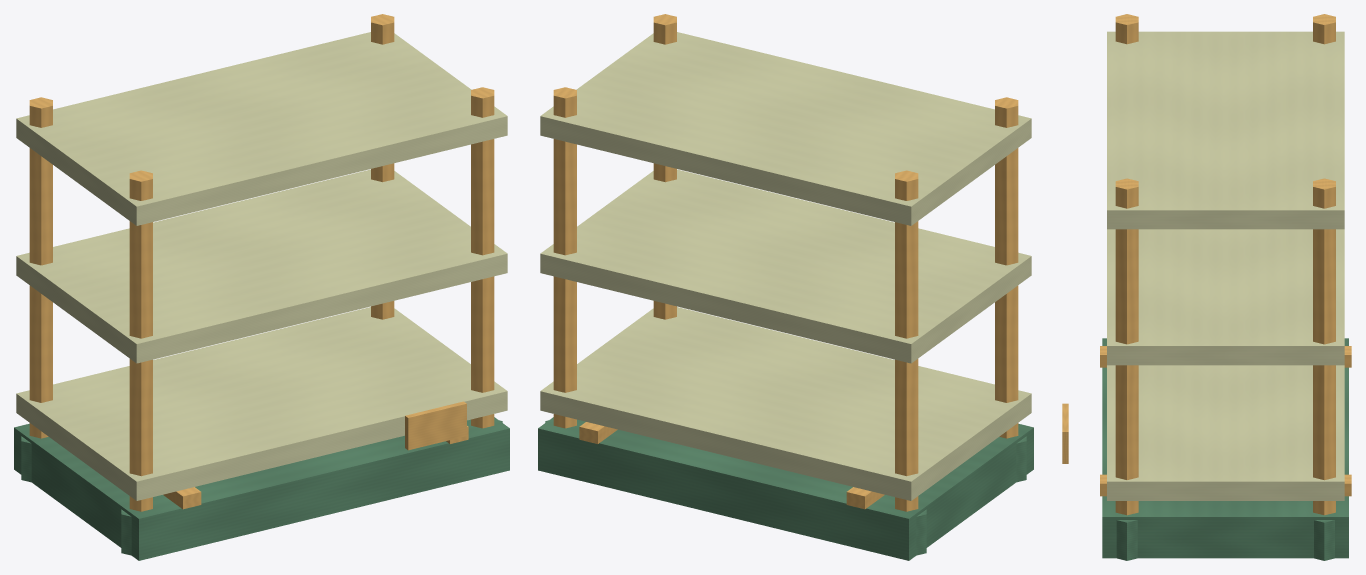
The model's file is atlas100-s001-a06.lod1.glb.
3 renders of one model, left to right at view 1: azimuth 30°, elevation 25°; view 2: azimuth 150°, elevation 25°; view 3: azimuth 270°, elevation 25°, orthographic.
Parts seen in each view (by area): view 1: atlas100-s001-a06:part-013, atlas100-s001-a06:part-012, atlas100-s001-a06:part-011, atlas100-s001-a06:part-000, atlas100-s001-a06:part-005, atlas100-s001-a06:part-009, atlas100-s001-a06:part-003, atlas100-s001-a06:part-014, atlas100-s001-a06:part-007; view 2: atlas100-s001-a06:part-013, atlas100-s001-a06:part-012, atlas100-s001-a06:part-011, atlas100-s001-a06:part-000, atlas100-s001-a06:part-003, atlas100-s001-a06:part-007, atlas100-s001-a06:part-005, atlas100-s001-a06:part-009; view 3: atlas100-s001-a06:part-013, atlas100-s001-a06:part-012, atlas100-s001-a06:part-011, atlas100-s001-a06:part-000, atlas100-s001-a06:part-009, atlas100-s001-a06:part-007, atlas100-s001-a06:part-010, atlas100-s001-a06:part-008, atlas100-s001-a06:part-005, atlas100-s001-a06:part-003, atlas100-s001-a06:part-014.
Part boxes in pixels (x1,y1,x2,y2): atlas100-s001-a06:part-013: (16,32,507,225); atlas100-s001-a06:part-012: (16,169,507,363); atlas100-s001-a06:part-011: (16,307,507,500); atlas100-s001-a06:part-000: (14,417,509,560); atlas100-s001-a06:part-005: (129,170,152,511); atlas100-s001-a06:part-009: (471,87,494,428); atlas100-s001-a06:part-003: (29,97,52,438); atlas100-s001-a06:part-014: (405,401,466,450); atlas100-s001-a06:part-007: (371,14,394,319); atlas100-s001-a06:part-013: (540,32,1031,225); atlas100-s001-a06:part-012: (540,169,1031,363); atlas100-s001-a06:part-011: (540,307,1031,500); atlas100-s001-a06:part-000: (538,417,1033,560); atlas100-s001-a06:part-003: (895,170,918,511); atlas100-s001-a06:part-007: (553,87,576,428); atlas100-s001-a06:part-005: (995,97,1018,438); atlas100-s001-a06:part-009: (653,14,676,319); atlas100-s001-a06:part-013: (1107,31,1344,229); atlas100-s001-a06:part-012: (1107,229,1344,365); atlas100-s001-a06:part-011: (1107,365,1344,500); atlas100-s001-a06:part-000: (1102,338,1348,558); atlas100-s001-a06:part-009: (1115,178,1138,515); atlas100-s001-a06:part-007: (1313,178,1335,515); atlas100-s001-a06:part-010: (1116,520,1137,560); atlas100-s001-a06:part-008: (1314,520,1334,560); atlas100-s001-a06:part-005: (1115,14,1138,44); atlas100-s001-a06:part-003: (1313,14,1335,44); atlas100-s001-a06:part-014: (1062,403,1068,463).
Size of the model in its own units: 2.47 by 2.3 by 1.64.
Materials: 3 (3 with a texture image).
